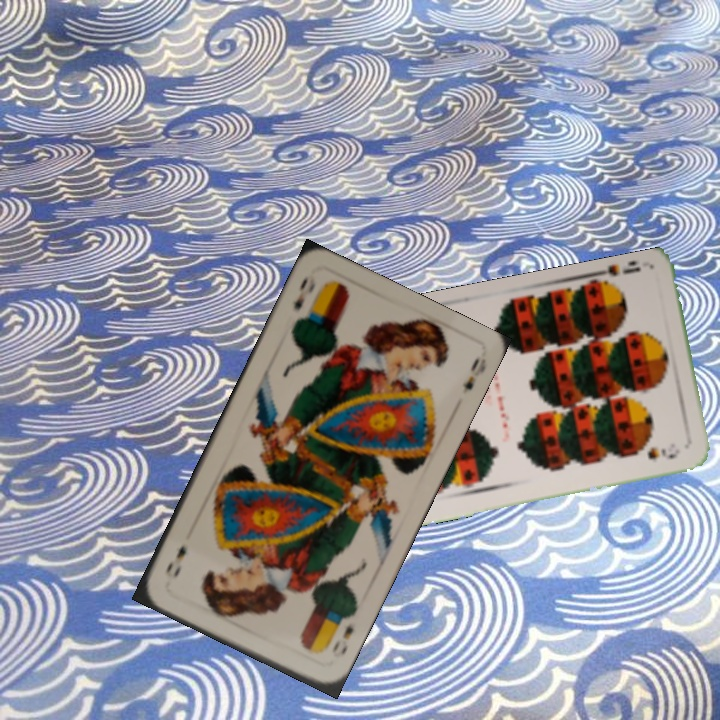EO: (289, 270, 318, 314), (327, 618, 357, 658)
S9: (592, 258, 643, 293)
